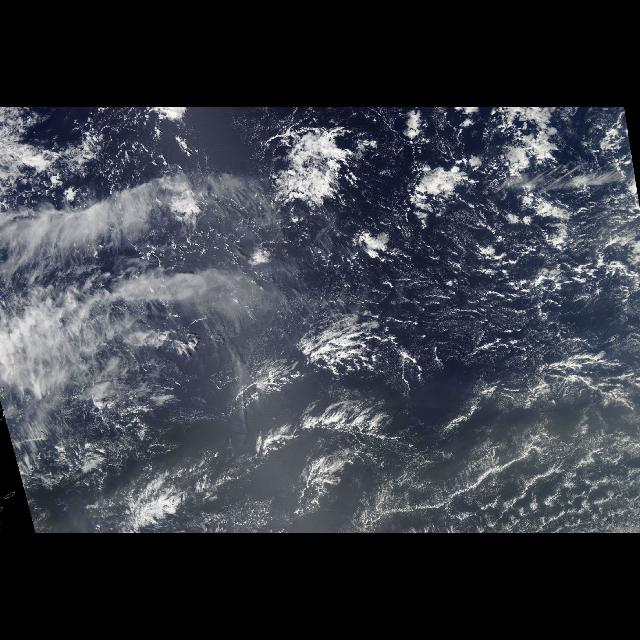Gravel: (251, 109, 635, 371)
Sugar: (354, 410, 638, 526)
